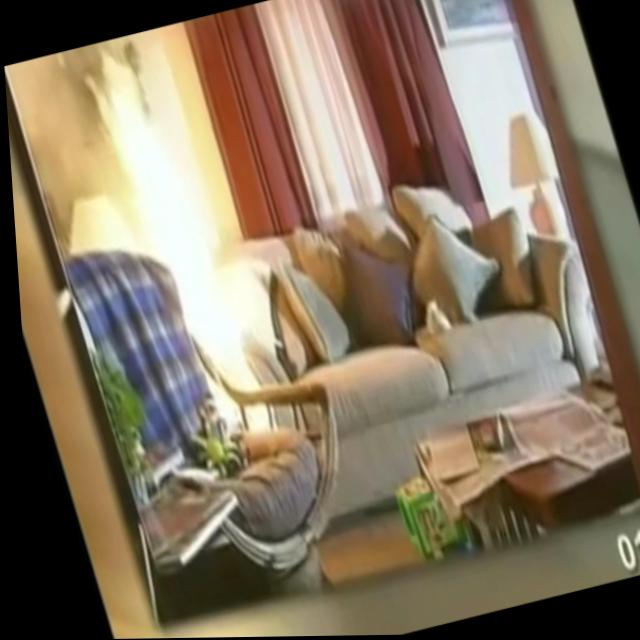fire: (76, 43, 265, 442)
